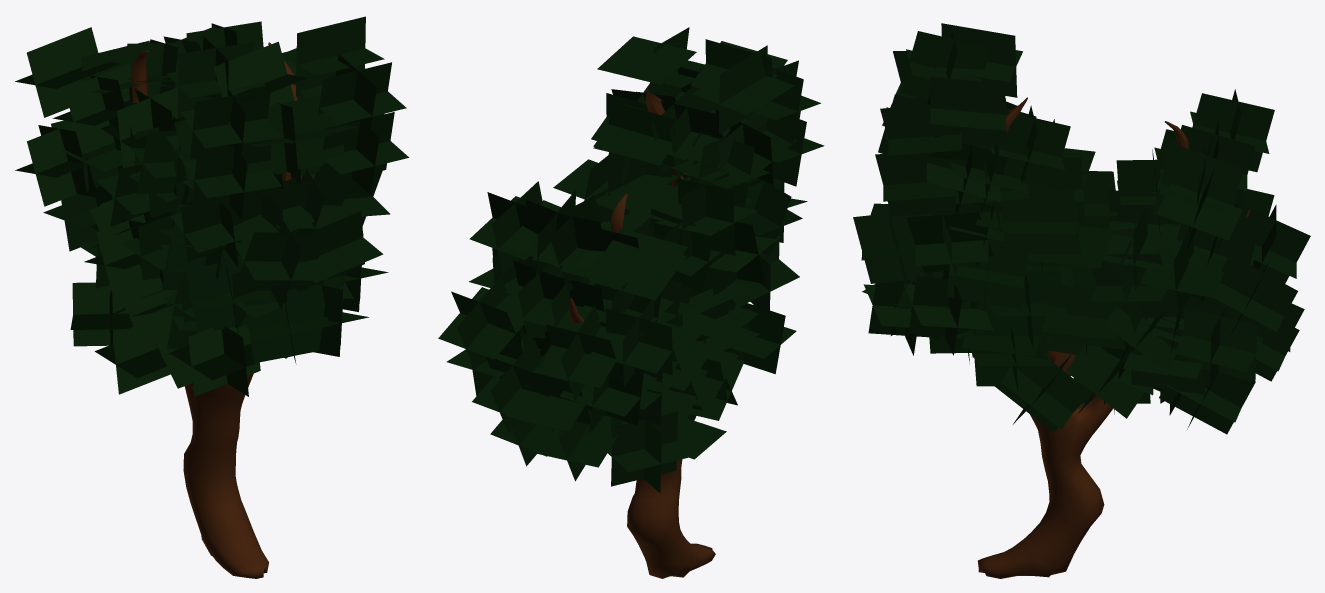
The model's file is Frangipanier_1V4_low.fbx.
3 renders of one model, left to right at view 1: azimuth 30°, elevation 25°; view 2: azimuth 150°, elevation 25°; view 3: azimuth 270°, elevation 25°, orthographic. The views are drawn at different scales.
Visible parts, largest first — view 1: Object001, Trunk_high; view 2: Object001, Trunk_high; view 3: Object001, Trunk_high.
Boxes of the visible parts, x1,y1,x2,y2 form: Object001: (15,16,408,396); Trunk_high: (131,42,302,578); Object001: (438,27,824,493); Trunk_high: (569,89,715,578); Object001: (853,23,1310,434); Trunk_high: (977,97,1250,578).
Bounding box in the file's own units: 839 × 1856 × 1458.
